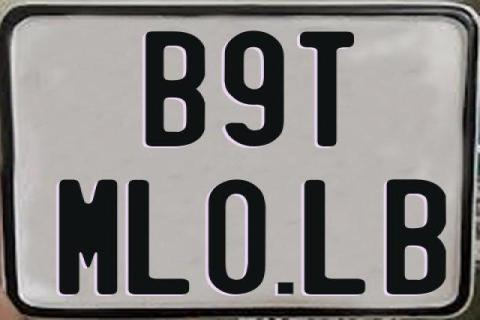0: (222, 30, 282, 150), (205, 178, 267, 294)
B: (385, 178, 450, 294), (146, 31, 208, 148)
L: (302, 179, 366, 297), (128, 180, 193, 295)
M: (57, 180, 121, 296)
T: (298, 30, 356, 146)
